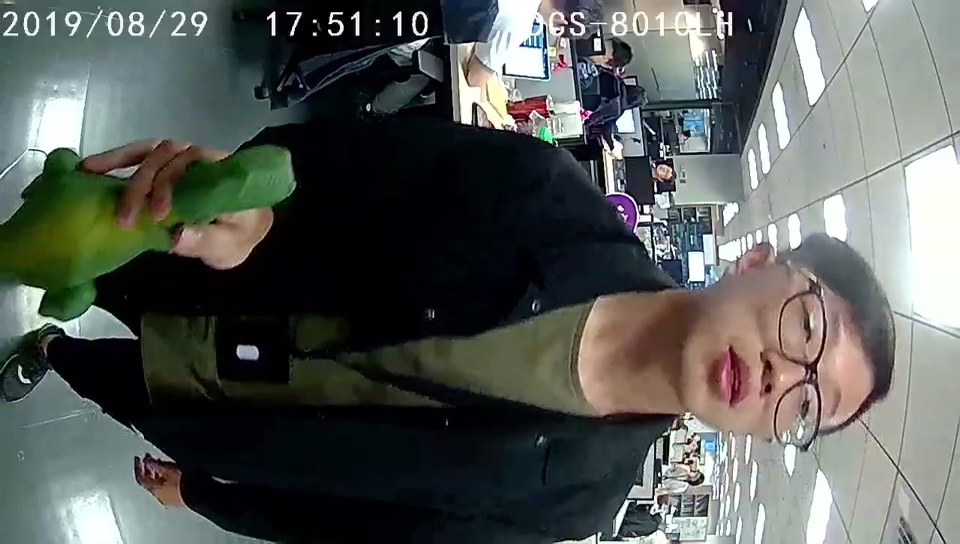rex: (1, 145, 295, 323)
